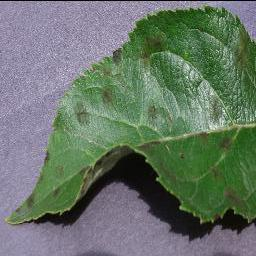apple healthy: (5, 4, 255, 231)
